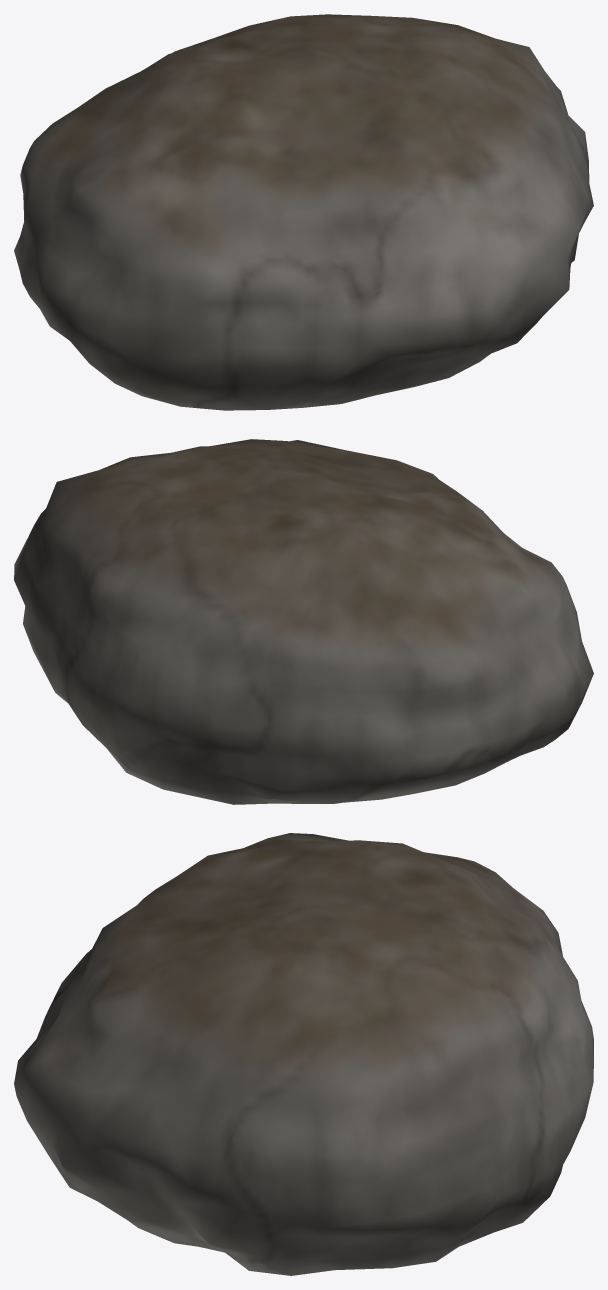
File: SM_rock_boulder_06.fbx
3 views of the same model, one above another, from view 1: azimuth 30°, elevation 25°; view 2: azimuth 150°, elevation 25°; view 3: azimuth 270°, elevation 25° (orthographic). The views are drawn at different scales.
Visible parts, largest first — view 1: SM_rock_boulder_06; view 2: SM_rock_boulder_06; view 3: SM_rock_boulder_06.
Boxes of the visible parts, bbox=[...] form: SM_rock_boulder_06: bbox=[14, 14, 593, 410]; SM_rock_boulder_06: bbox=[14, 439, 593, 804]; SM_rock_boulder_06: bbox=[14, 833, 593, 1275].
Bounding box in the file's own units: 2.51 × 1.18 × 2.1.
